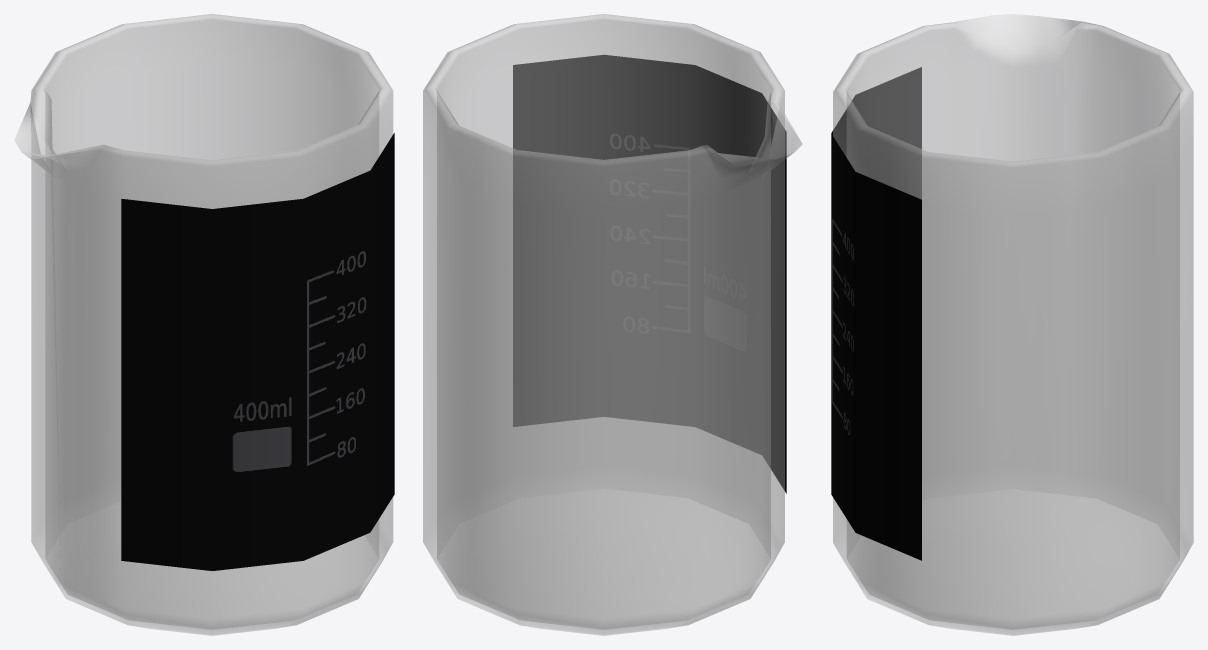
The model's file is Beaker.fbx.
3 views of the same model, side by side, from view 1: azimuth 30°, elevation 25°; view 2: azimuth 150°, elevation 25°; view 3: azimuth 270°, elevation 25° (orthographic).
Visible parts, largest first — view 1: Beaker, Beaker_label; view 2: Beaker, Beaker_label; view 3: Beaker, Beaker_label.
Part boxes in pixels (x1,y1,x2,y2): Beaker: (14, 14, 393, 635); Beaker_label: (121, 133, 394, 570); Beaker: (423, 14, 802, 635); Beaker_label: (513, 54, 786, 493); Beaker: (833, 14, 1193, 635); Beaker_label: (831, 67, 921, 560).
Size of the model in its own units: 4.96 by 6.75 by 4.49.
Materials: 2 (1 with a texture image).
